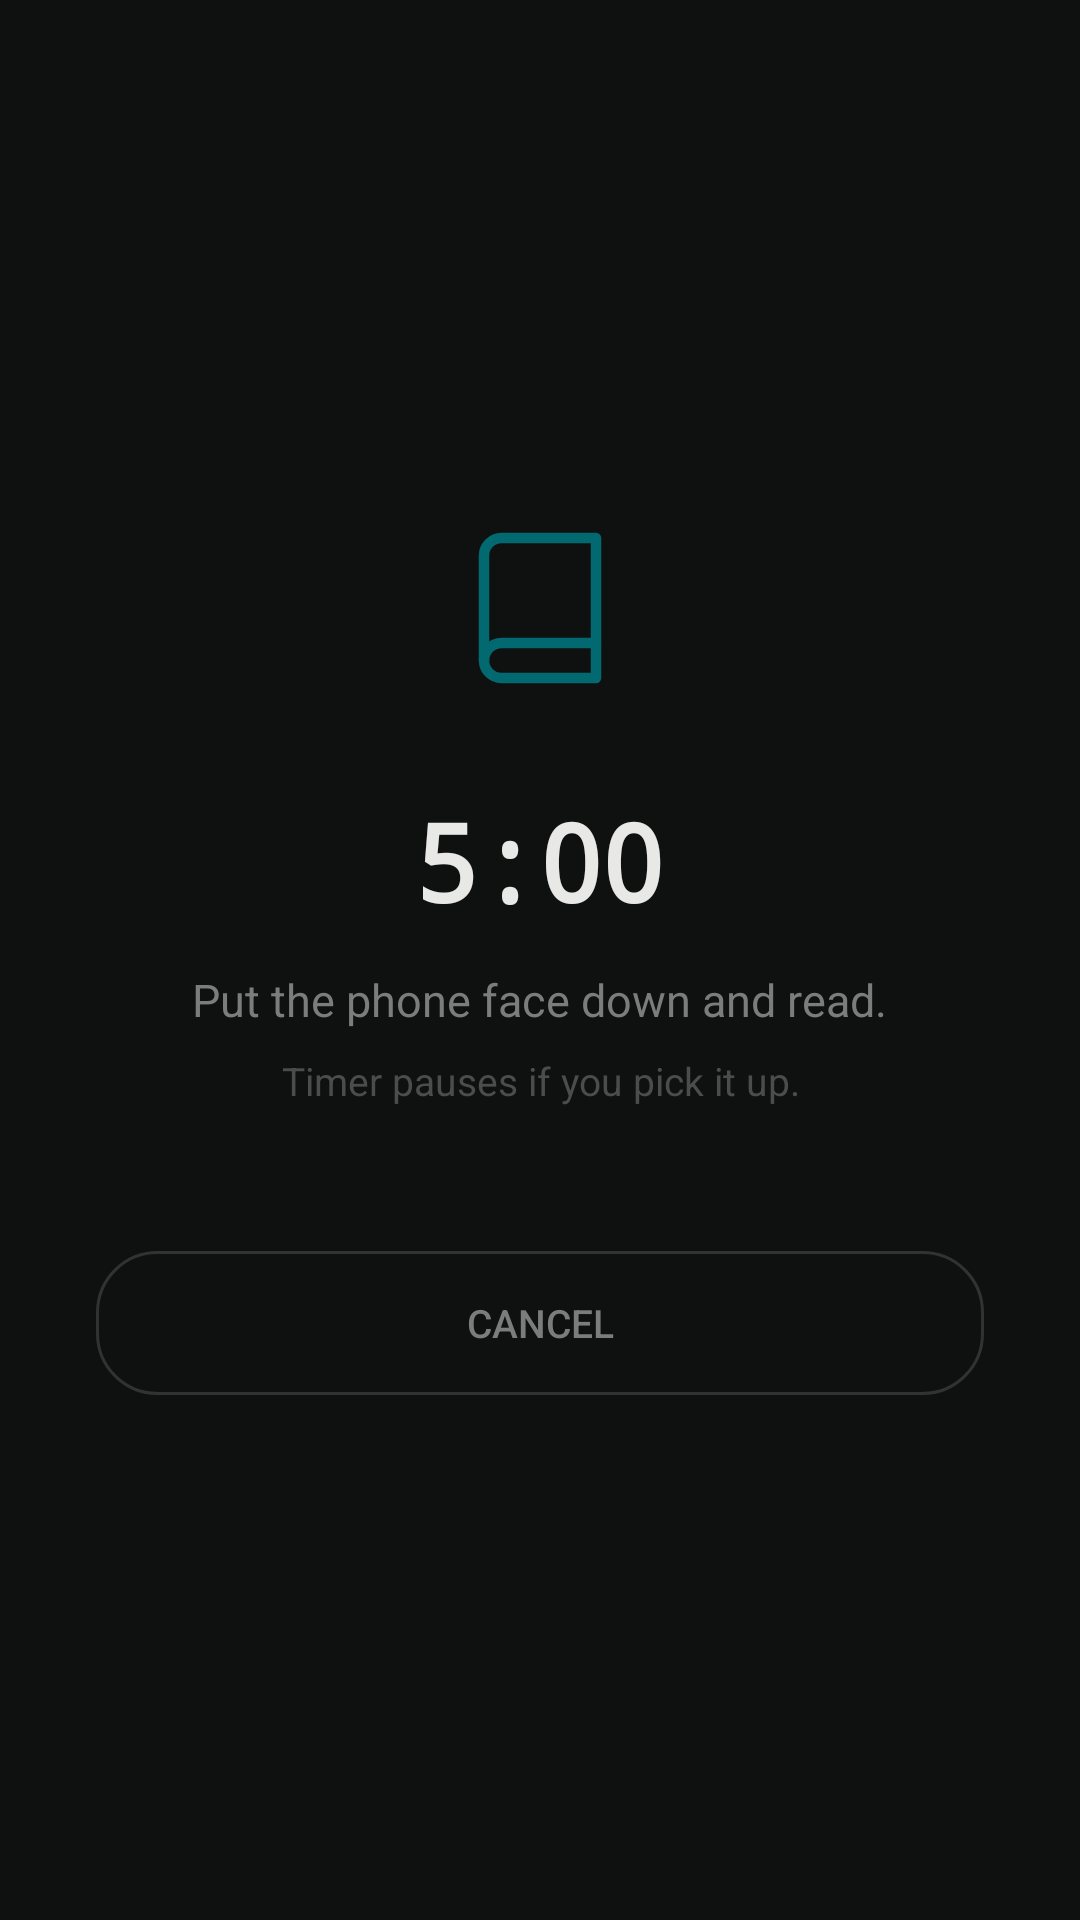

Screen size 1080px x 1920px. Icon name, then its center in pixels as (x,y):
book: (540,608)
